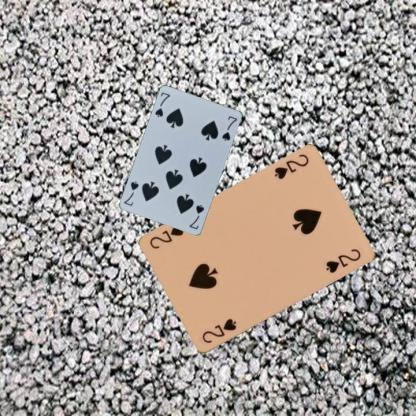2s: (198, 316, 238, 345), (272, 152, 310, 182)
7s: (186, 202, 206, 231), (152, 90, 172, 119)
